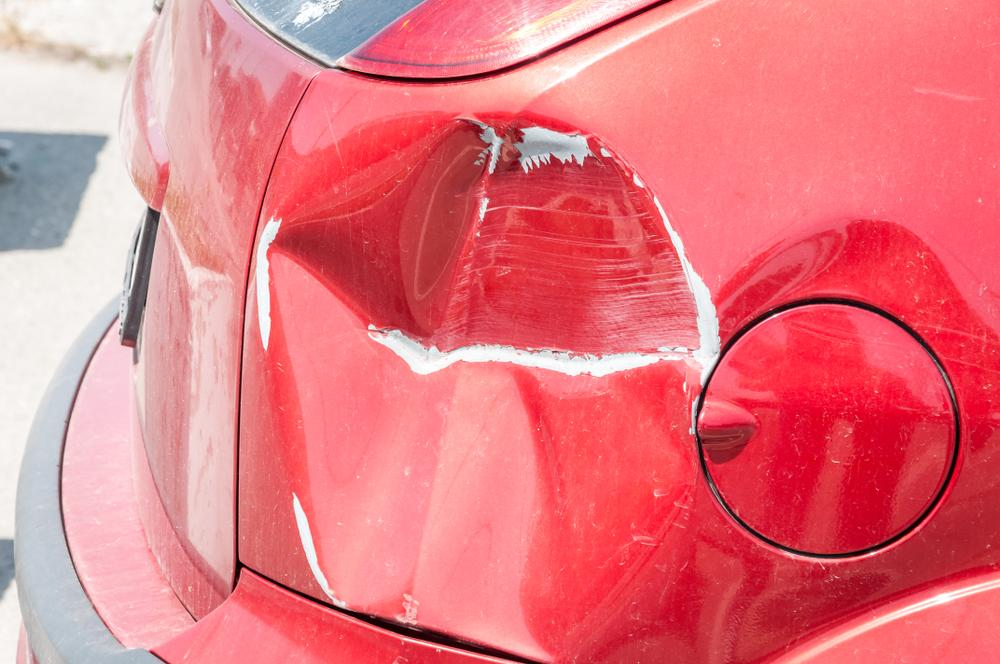dent: (261, 112, 708, 664)
